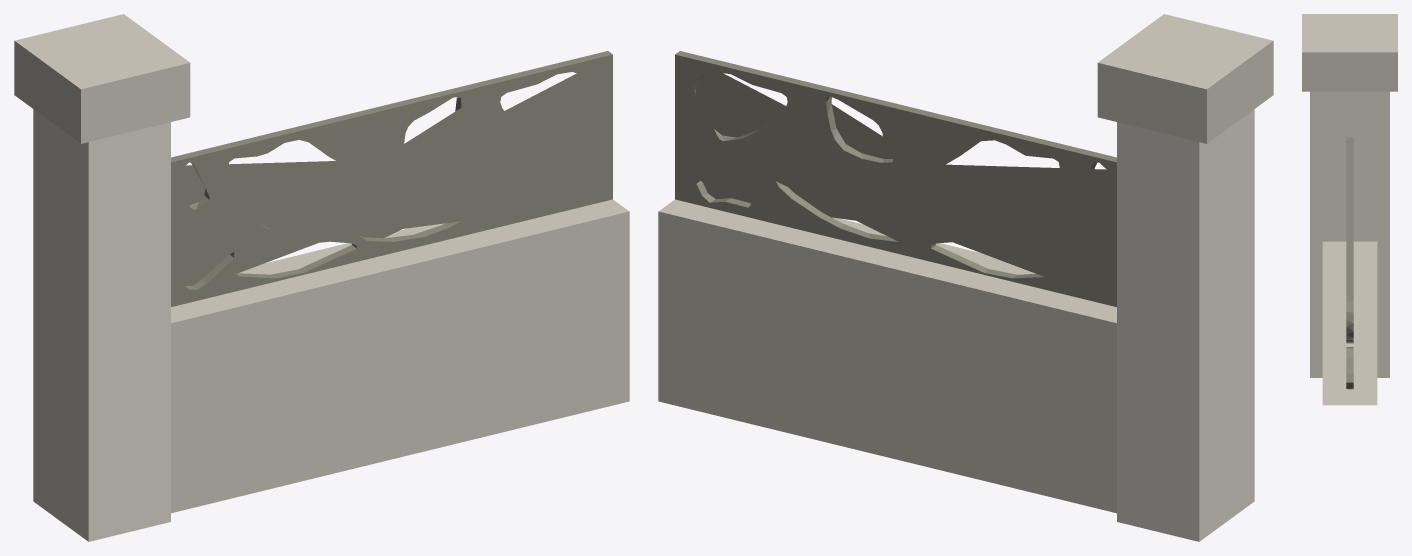
The model's file is Fence_Low_Var2_A.fbx.
3 views of the same model, side by side, from view 1: azimuth 30°, elevation 25°; view 2: azimuth 150°, elevation 25°; view 3: azimuth 270°, elevation 25° (orthographic). The views are drawn at different scales.
Visible parts, largest first — view 1: Fence_Low_Var2_A; view 2: Fence_Low_Var2_A; view 3: Fence_Low_Var2_A.
Boxes of the visible parts, x1,y1,x2,y2 form: Fence_Low_Var2_A: (14,14,629,541); Fence_Low_Var2_A: (658,14,1273,541); Fence_Low_Var2_A: (1302,14,1397,405).
Bounding box in the file's own units: 102 × 79.98 × 21.
